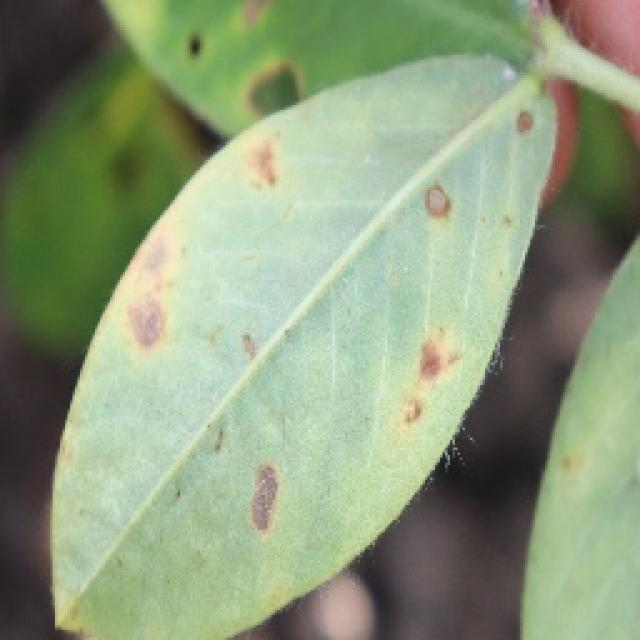Early_leaf_spot: (93, 200, 193, 365), (363, 322, 475, 451), (225, 112, 308, 206), (486, 94, 574, 169), (236, 442, 292, 552), (414, 168, 473, 240), (234, 318, 278, 379)
